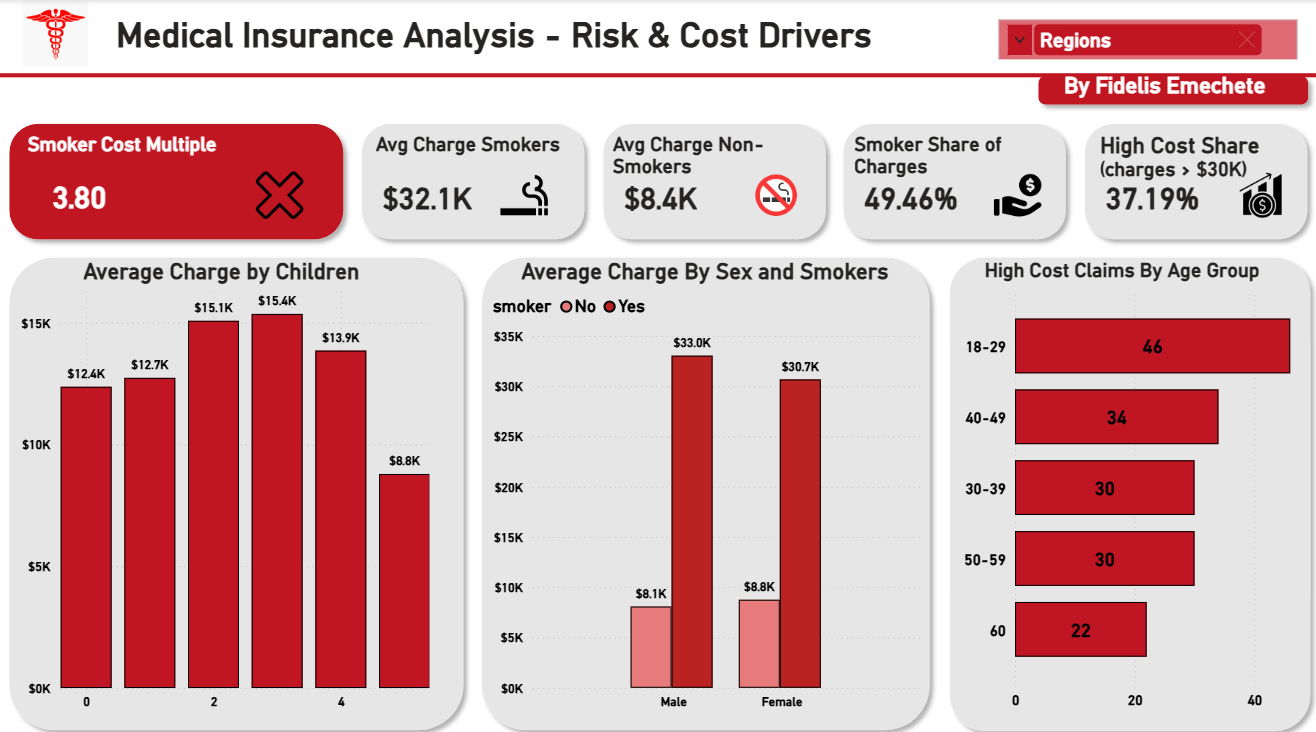

What the dashboard file says about the page in this screenshot:
{"tool":"powerbi","page":{"name":"Risk & Cost Drivers","canvas":[1280,720],"ordinal":1},"visuals":[{"type":"shape","box":[0,242.3,458.8,477],"z":1000},{"type":"shape","box":[458.8,242.3,452.7,477],"z":2000},{"type":"shape","box":[912,242,368,478],"z":3000},{"type":"shape","box":[0,112.1,342.2,130.2],"z":4000},{"type":"shape","box":[342,112,234,130],"z":5000},{"type":"shape","box":[576,112,234,130],"z":6000},{"type":"shape","box":[810,112,234,130],"z":7000},{"type":"shape","box":[1044,112,234,130],"z":8000},{"type":"shape","box":[0,0,1278,148],"z":9000},{"type":"shape","box":[998,66,280,46],"z":10000},{"type":"cardVisual","title":"Total Policyholders","fields":{"Data":["Medical insurance.Smoker Cost Multiple"]},"box":[21.2,140.8,180,100],"z":11000},{"type":"cardVisual","title":"Total Charges","fields":{"Data":["Medical insurance.Avg Charge Smokers"]},"box":[342,142,180,100],"z":12000},{"type":"cardVisual","title":"Average Charge","fields":{"Data":["Medical insurance.Avg Charge Non-Smokers"]},"box":[576,142,178,100],"z":13000},{"type":"cardVisual","title":"Smoker %","fields":{"Data":["Medical insurance.Smoker Share of Charges"]},"box":[810,142,180,100],"z":14000},{"type":"textbox","box":[21.2,124.2,300,48],"z":15000},{"type":"textbox","box":[360,124,300,48],"z":16000},{"type":"textbox","box":[590,124,204,54],"z":17000},{"type":"textbox","box":[824,124,204,54],"z":18000},{"type":"textbox","box":[1062,124,218,68],"z":19000},{"type":"cardVisual","title":"Smoker %","fields":{"Data":["Medical insurance.High Cost Share"]},"box":[1044,142,180,100],"z":20000},{"type":"columnChart","fields":{"Y":["Medical insurance.Average Charge"],"Category":["Medical insurance.children"]},"box":[15.1,269.5,407.3,427],"z":21000},{"type":"textbox","box":[75.7,245.3,300,48],"z":22000},{"type":"textbox","box":[501.2,245.3,368,72],"z":23000},{"type":"barChart","fields":{"Y":["Medical insurance.High Cost Count"],"Category":["Medical insurance.Age Group"]},"box":[928,270,336,426],"z":24000},{"type":"textbox","box":[950,246,330,48],"z":25000},{"type":"textbox","box":[108,10,792,48],"z":26000},{"type":"textbox","box":[1028,66,218,48],"z":27000},{"type":"image","box":[0,2,108,64],"z":28000},{"type":"textSlicer","fields":{"Values":["Medical insurance.region"]},"box":[964,14,300,44],"z":29000},{"type":"clusteredColumnChart","fields":{"Category":["Medical insurance.sex"],"Y":["Medical insurance.Average Charge"],"Series":["Medical insurance.smoker"]},"box":[472.4,275.6,427,420.9],"z":30000},{"type":"image","box":[1186,168,74,46],"z":31000},{"type":"image","box":[234,168,74,46],"z":32000},{"type":"image","box":[472,168,74,46],"z":33000},{"type":"image","box":[716,168,74,46],"z":34000},{"type":"image","box":[950,168,74,46],"z":35000}]}

Visuals, with their boxes in screenshot pixels (x1, y1, x2, y2), scaled from the page's 1280x720 canvas onto the 1316x732 screenshot:
shape: (0, 246, 472, 731)
shape: (472, 246, 937, 731)
shape: (938, 246, 1315, 731)
shape: (0, 114, 352, 246)
shape: (352, 114, 592, 246)
shape: (592, 114, 833, 246)
shape: (833, 114, 1073, 246)
shape: (1073, 114, 1314, 246)
shape: (0, 0, 1314, 150)
shape: (1026, 67, 1314, 114)
"Total Policyholders" cardVisual: (22, 143, 207, 245)
"Total Charges" cardVisual: (352, 144, 537, 246)
"Average Charge" cardVisual: (592, 144, 775, 246)
"Smoker %" cardVisual: (833, 144, 1018, 246)
textbox: (22, 126, 330, 175)
textbox: (370, 126, 679, 175)
textbox: (607, 126, 816, 181)
textbox: (847, 126, 1057, 181)
textbox: (1092, 126, 1315, 195)
"Smoker %" cardVisual: (1073, 144, 1258, 246)
columnChart - Medical insurance.Average Charge x Medical insurance.children: (16, 274, 434, 708)
textbox: (78, 249, 386, 298)
textbox: (515, 249, 894, 323)
barChart - Medical insurance.High Cost Count x Medical insurance.Age Group: (954, 274, 1300, 708)
textbox: (977, 250, 1315, 299)
textbox: (111, 10, 925, 59)
textbox: (1057, 67, 1281, 116)
image: (0, 2, 111, 67)
textSlicer - Medical insurance.region: (991, 14, 1300, 59)
clusteredColumnChart - Medical insurance.sex x Medical insurance.Average Charge: (486, 280, 925, 708)
image: (1219, 171, 1295, 218)
image: (241, 171, 317, 218)
image: (485, 171, 561, 218)
image: (736, 171, 812, 218)
image: (977, 171, 1053, 218)
